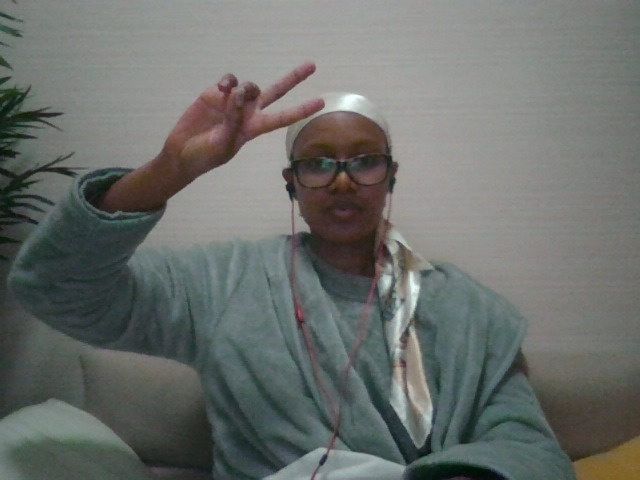peace: (153, 53, 336, 184)
